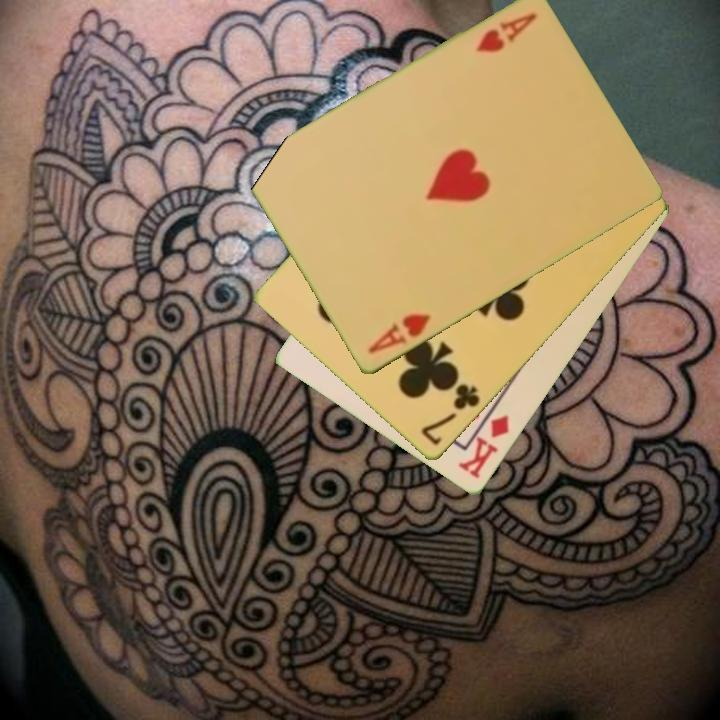7c: (417, 380, 483, 449)
Ah: (364, 310, 434, 358), (471, 10, 540, 57)
Kd: (454, 412, 512, 483)
